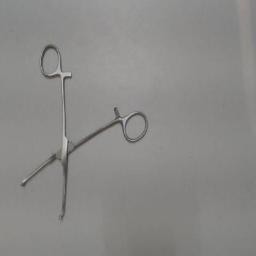Allis Tissue Forceps: (16, 38, 152, 226)
